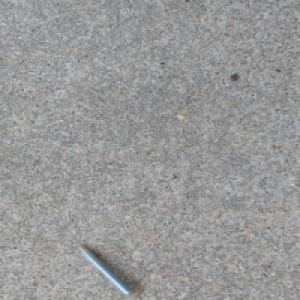Screw: (75, 245, 142, 300)
